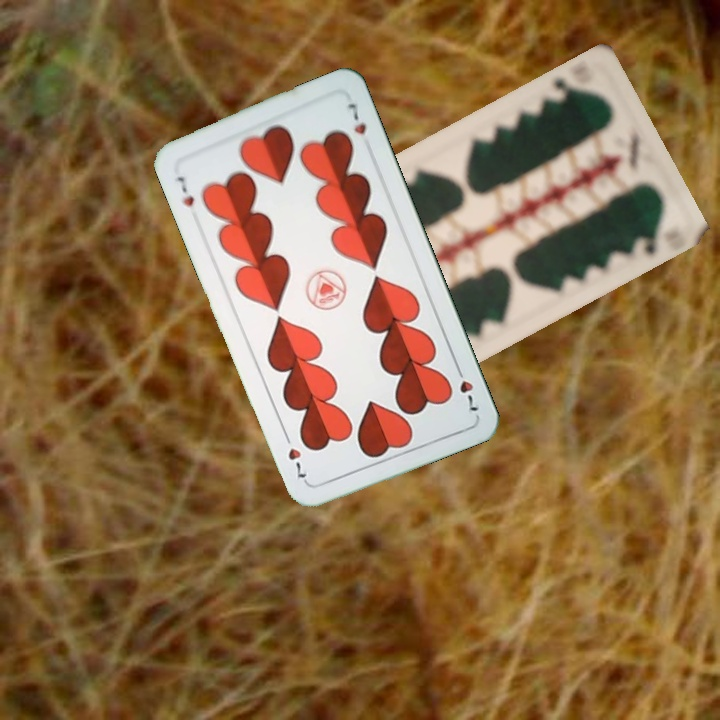G10: (543, 72, 584, 105)
H7: (451, 360, 481, 414), (173, 172, 197, 209)
